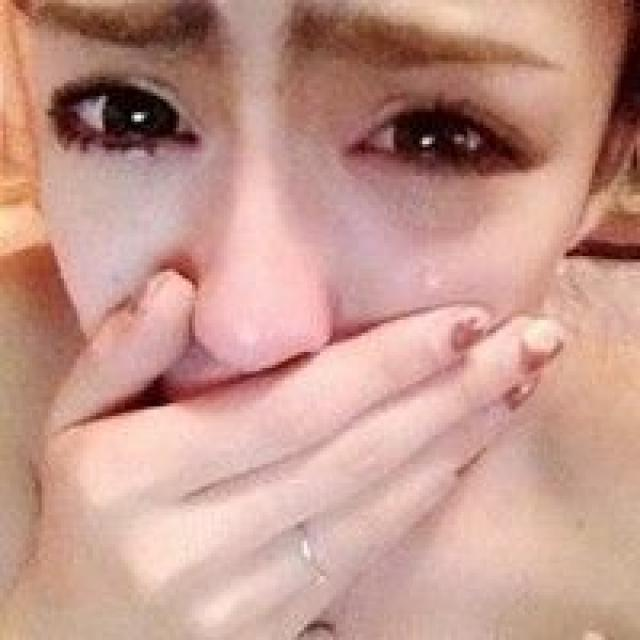nomask: (28, 2, 586, 466)
